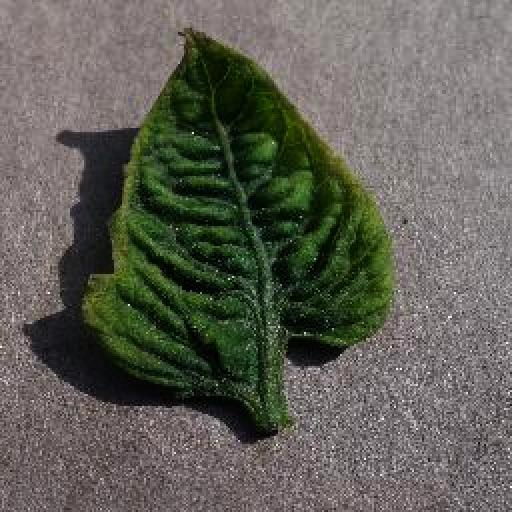disease_tomato: (82, 28, 396, 400)
